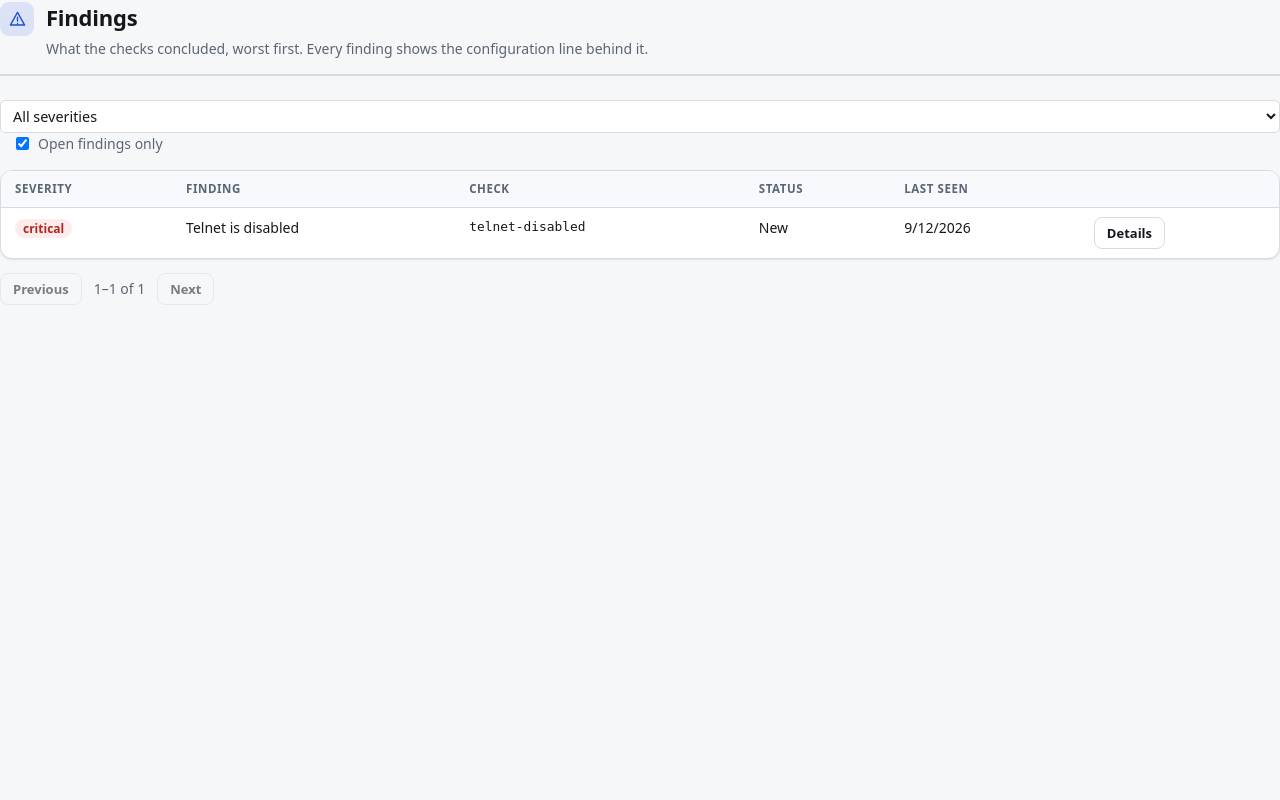
Test: FindingsPage › hides triage actions from a reader who cannot write findings
The image size is (1280, 800).
Expected: the text "Telnet is disabled" is shown, [172, 207, 455, 258]
Click the button with aria-label "Details for Telnet is disabled".
click(1129, 233)  # box [1094, 217, 1165, 249]
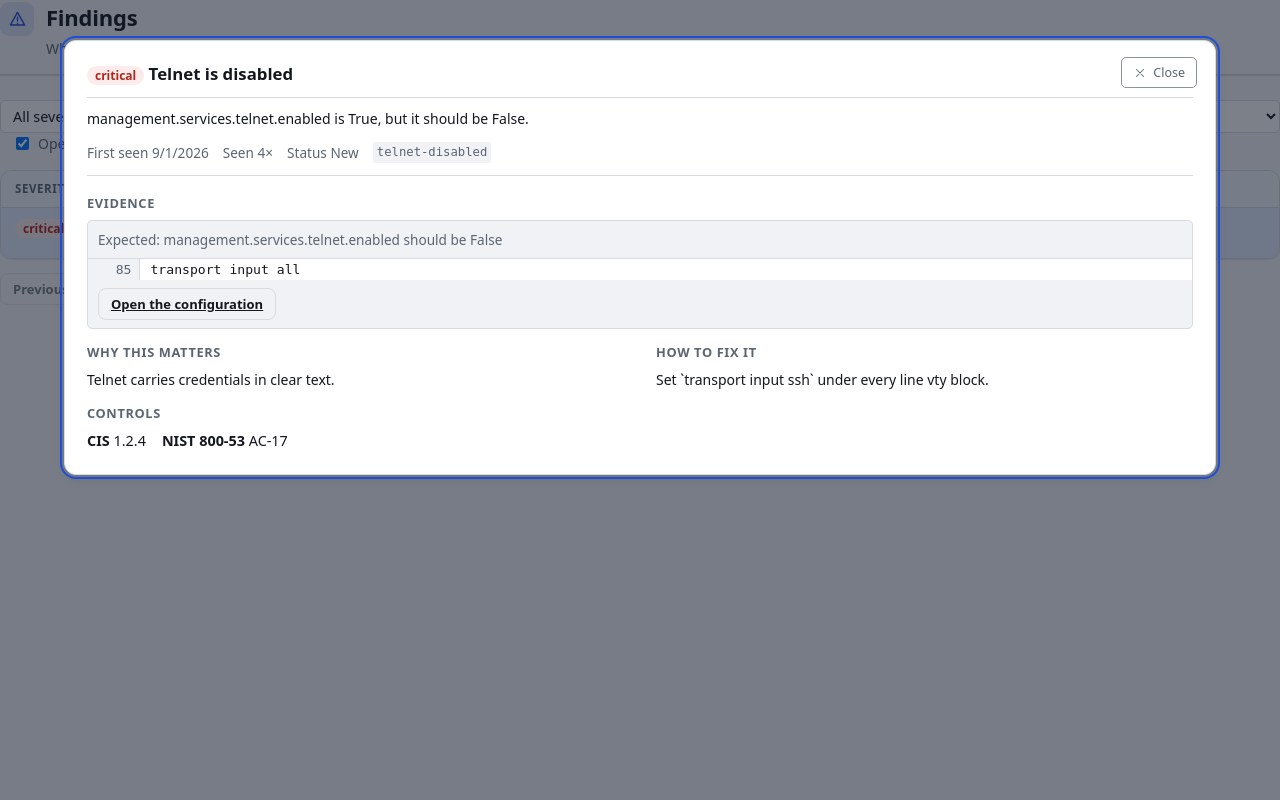
Result: the heading "Evidence" is shown at [87, 194, 155, 212]
